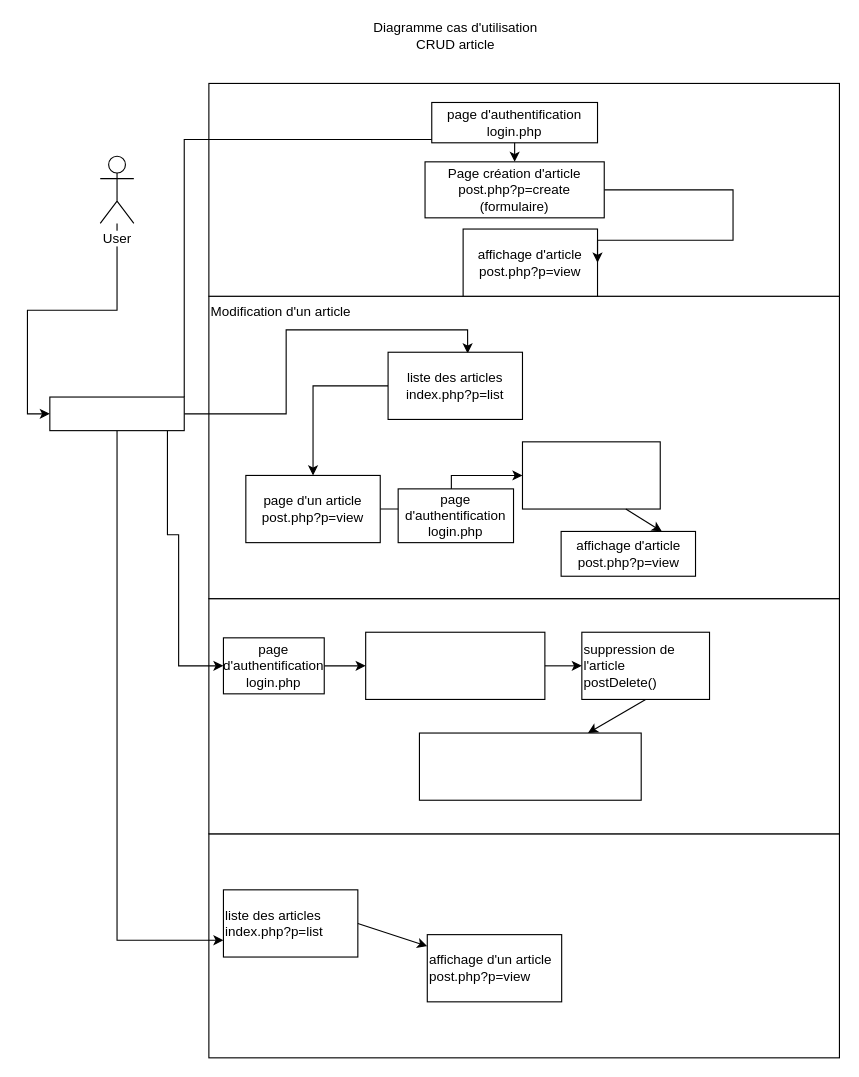
This 859x1077 diagram has some shape labels left out. The shapes that lost their labels are listed below. From the top down, each one's box as (x1, y1, x2, y2) in pixels, then its label:
(208, 82, 839, 296): Creation d'un article
(49, 396, 184, 431): Page d'accueil index.php
(521, 441, 660, 509): modification d'un article post.php?p=modify
(365, 631, 545, 699): liste des articles de l'utilisateur post.php?p=list_user
(208, 598, 839, 834): Suppression d'un article
(418, 732, 641, 800): article supprimé index.php?p=deleted
(208, 833, 839, 1058): Lecture d'un article
